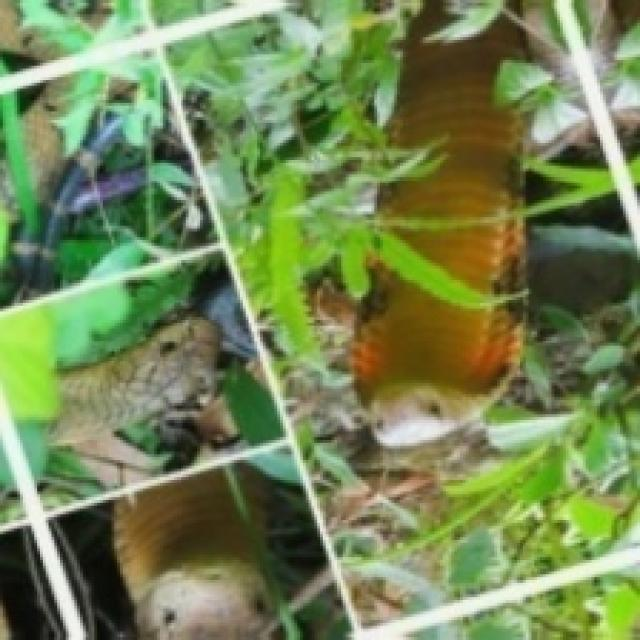king cobra: (351, 0, 523, 446)
